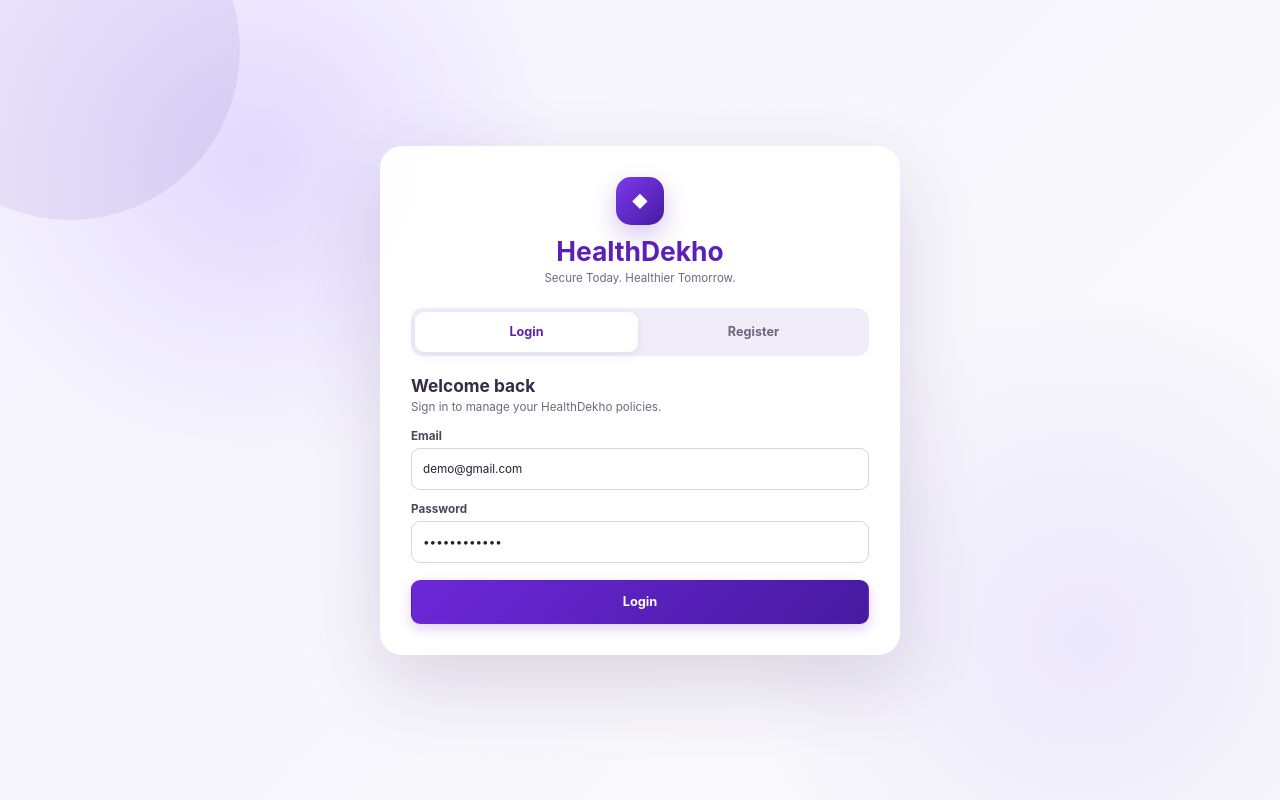
it: LoginPage › switches between login and registration
Click the tab "Register": (754, 332) 642,312 -> 865,352
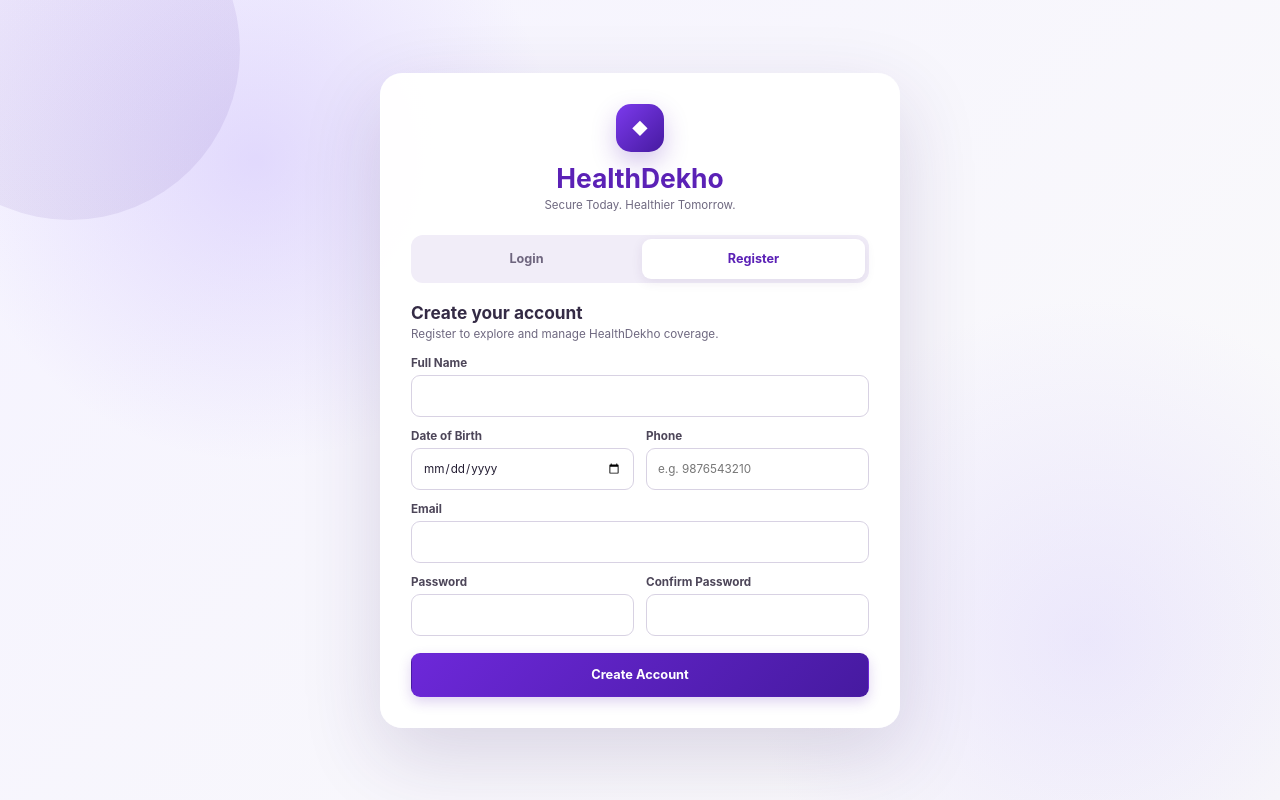
Expected: the heading "Create your account" is shown, 411,302 -> 583,322
